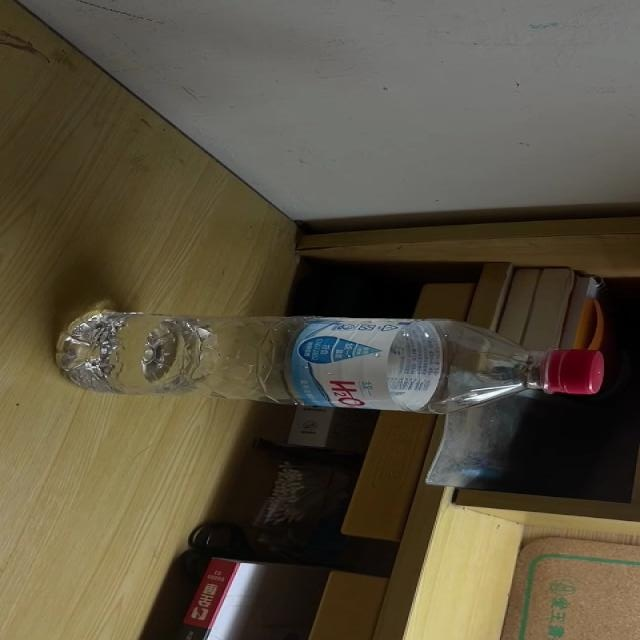Water: (56, 311, 606, 415)
